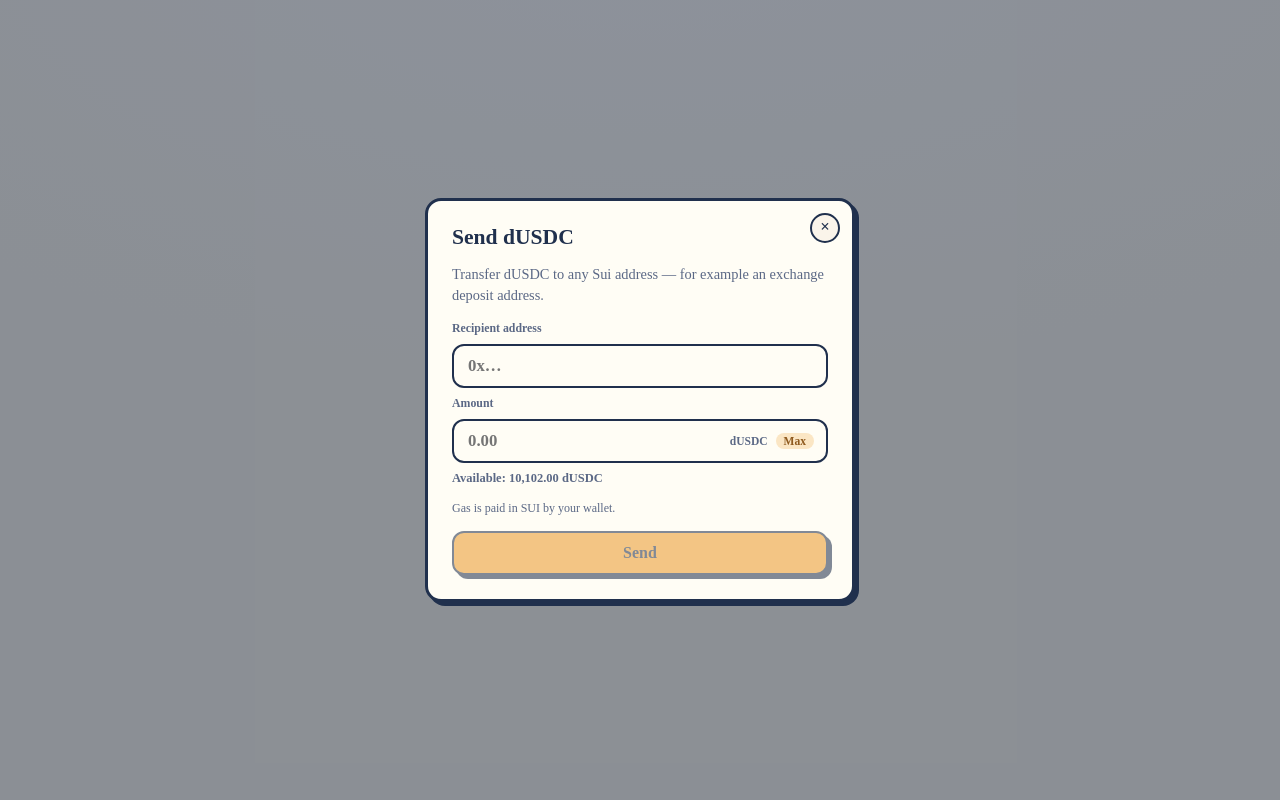
Test case: SendDialog form › echoes the typed amount on the CTA so the user confirms the number they press
Check: the button "Send" is shown, box [452,531,828,575]
Type "100" into the field labelled "Amount dUSDC Max" at (595, 441), box [466,430,724,452]
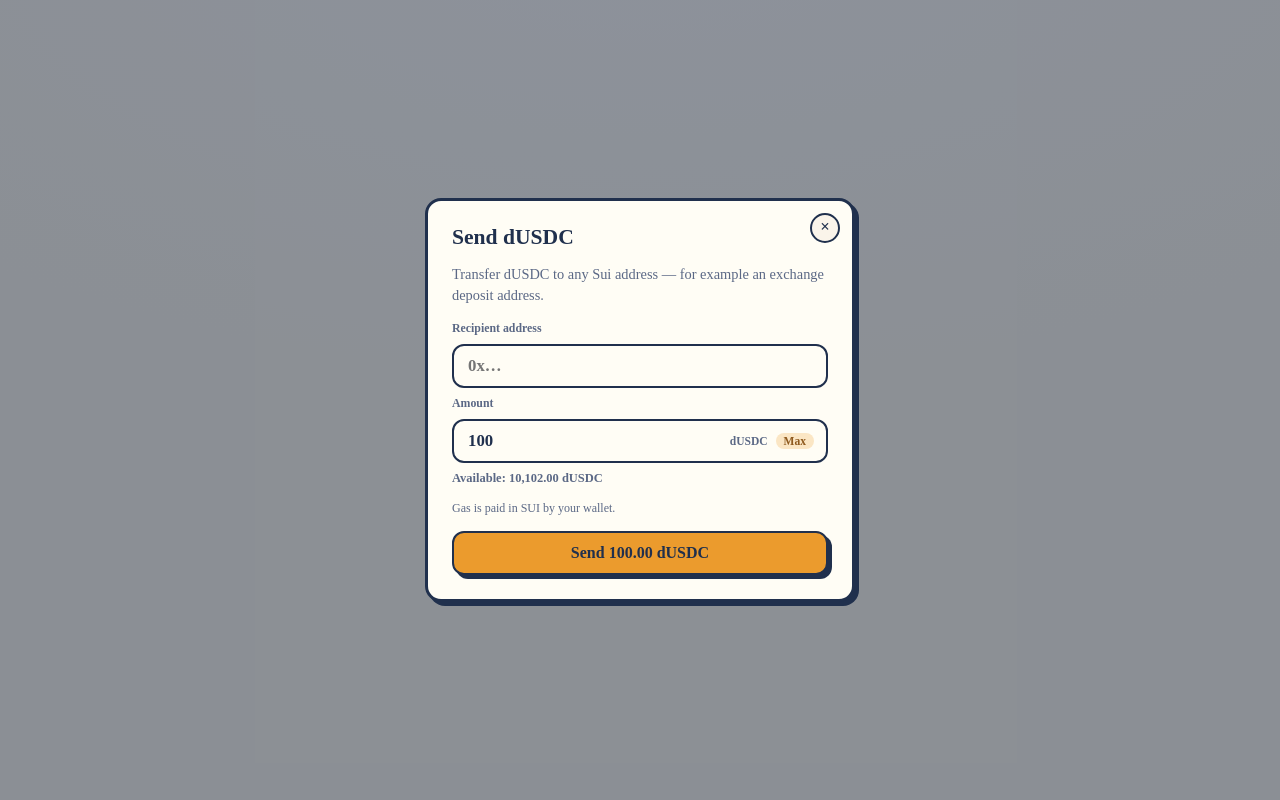
Check: the button "Send 100.00 dUSDC" is shown, box [452,531,828,575]
